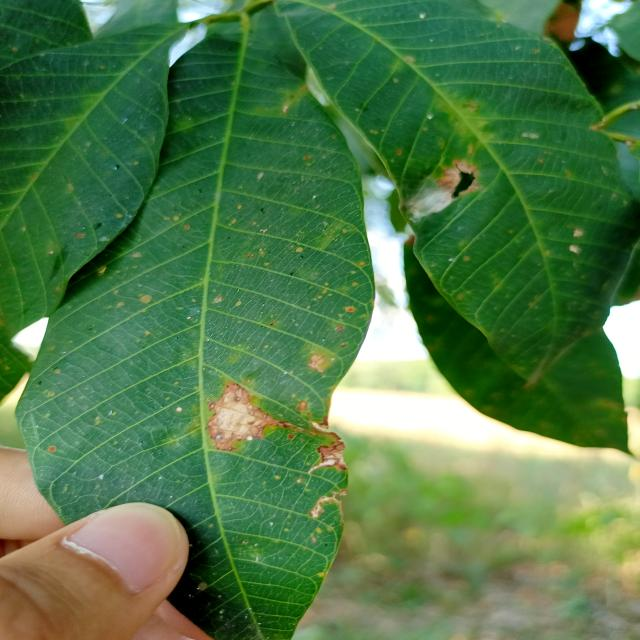Colletotrichum: (176, 407, 182, 412)
Leaf-Blight: (208, 383, 277, 451), (436, 158, 481, 196), (307, 439, 347, 476)
